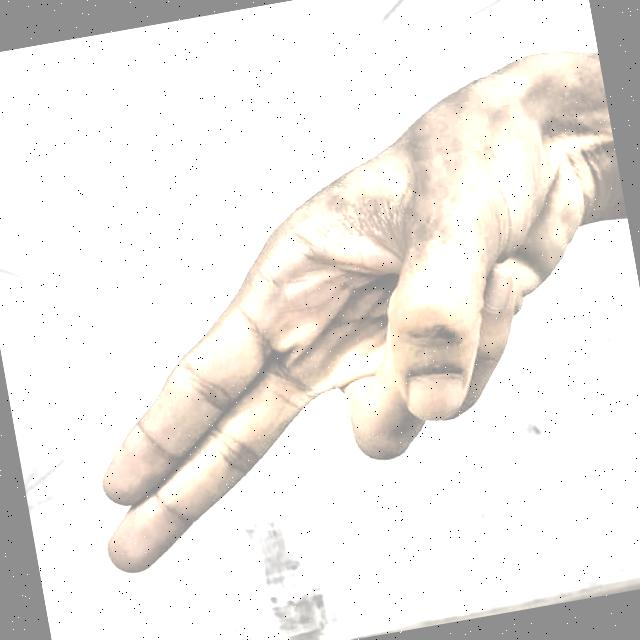Ha: (18, 42, 634, 620)
